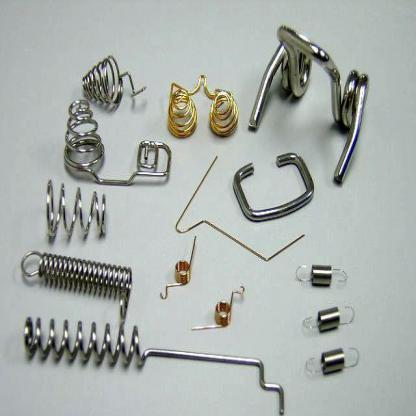FOD: (23, 314, 284, 415), (64, 97, 173, 183), (19, 246, 132, 320), (43, 178, 108, 240), (76, 53, 150, 107), (190, 284, 246, 334), (159, 233, 197, 303), (304, 342, 360, 378), (301, 302, 355, 334), (294, 259, 350, 287)
